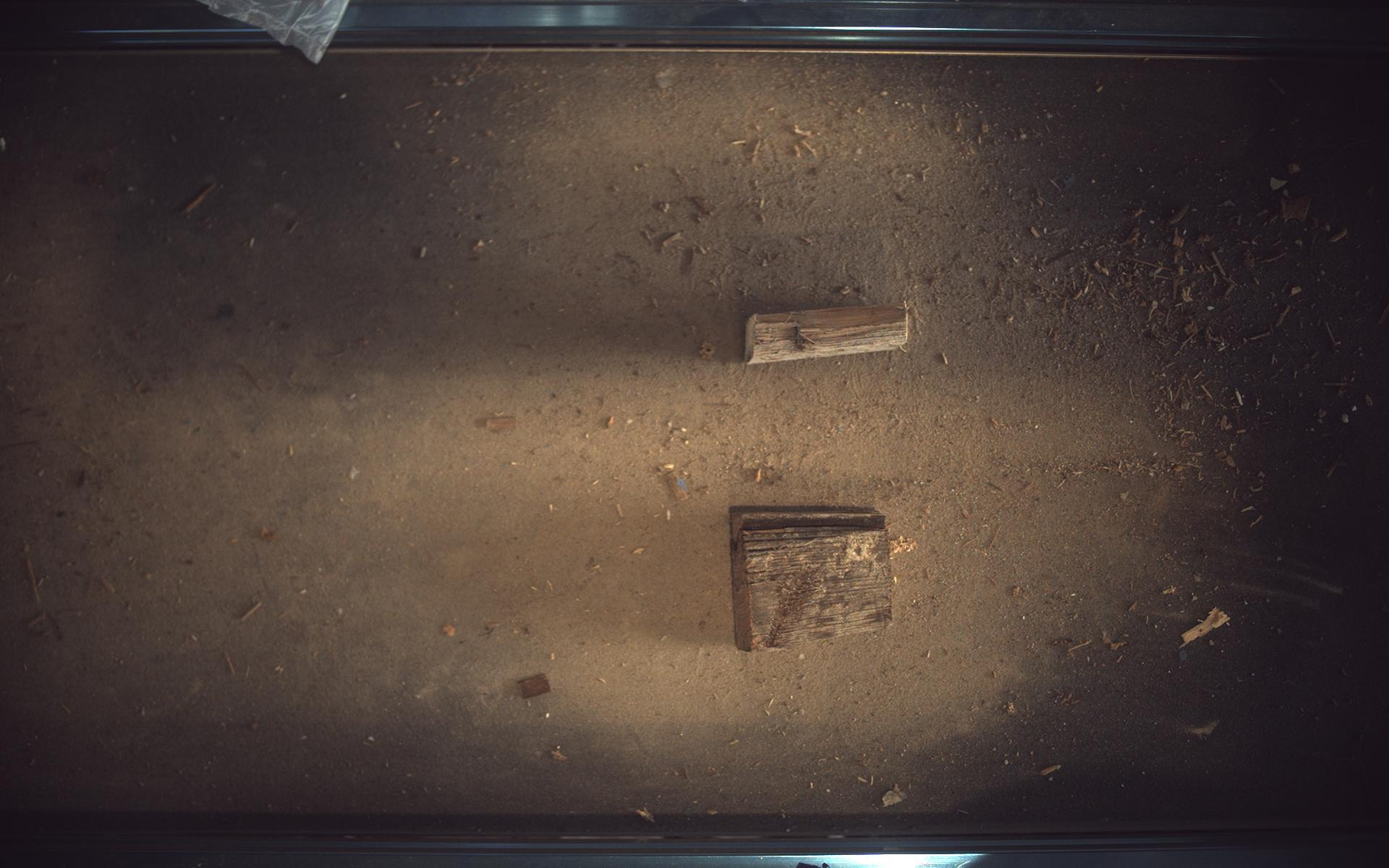wood: (731, 507, 892, 652), (745, 305, 909, 364)
